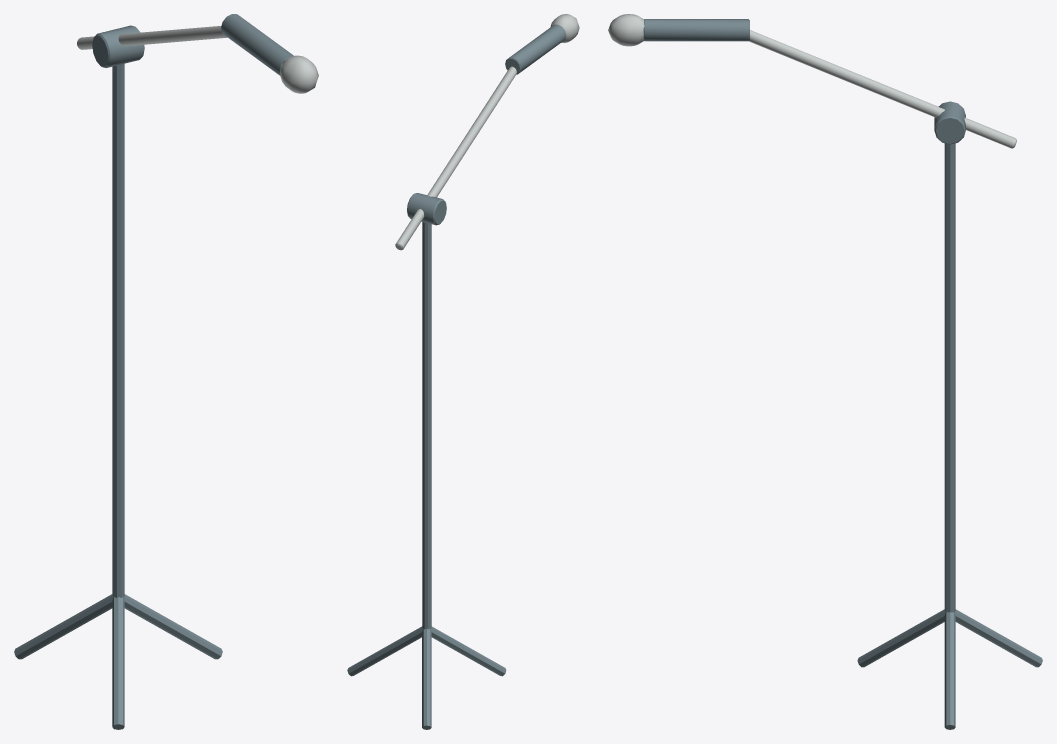
Rendered from mic-stand.glb.
The picture shows the model from 3 angles, left to right: view 1: azimuth 30°, elevation 25°; view 2: azimuth 150°, elevation 25°; view 3: azimuth 270°, elevation 25°; orthographic projection. The views are drawn at different scales.
Visible parts, largest first — view 1: microphone_stand_pole, microphone, microphone_stand_leg.001, boom, adjustment_knob, microphone_stand_leg, microphone_stand_leg.002, microphone_grille; view 2: microphone_stand_pole, boom, microphone, microphone_stand_leg.002, adjustment_knob, microphone_stand_leg.001, microphone_stand_leg, microphone_grille; view 3: microphone_stand_pole, boom, microphone, microphone_stand_leg, microphone_stand_leg.002, microphone_stand_leg.001, adjustment_knob, microphone_grille.
Boxes of the visible parts, <box> form: microphone_stand_pole: <box>112,63,124,598</box>; microphone: <box>221,14,293,75</box>; microphone_stand_leg.001: <box>112,597,124,729</box>; boom: <box>77,25,227,49</box>; adjustment_knob: <box>92,25,144,67</box>; microphone_stand_leg: <box>123,594,222,659</box>; microphone_stand_leg.002: <box>14,594,112,659</box>; microphone_grille: <box>279,55,318,93</box>; microphone_stand_pole: <box>422,222,431,629</box>; boom: <box>395,66,516,250</box>; microphone: <box>505,24,566,74</box>; microphone_stand_leg.002: <box>422,628,431,729</box>; adjustment_knob: <box>407,193,446,225</box>; microphone_stand_leg.001: <box>431,626,506,676</box>; microphone_stand_leg: <box>347,626,422,676</box>; microphone_grille: <box>550,14,579,42</box>; microphone_stand_pole: <box>944,143,955,612</box>; boom: <box>749,30,1016,148</box>; microphone: <box>643,19,749,41</box>; microphone_stand_leg: <box>944,612,955,729</box>; microphone_stand_leg.002: <box>954,609,1042,667</box>; microphone_stand_leg.001: <box>857,609,945,667</box>; adjustment_knob: <box>934,101,965,144</box>; microphone_grille: <box>608,14,644,46</box>.
Bounding box in the file's own units: 0.3477 × 1.59 × 0.9343.
